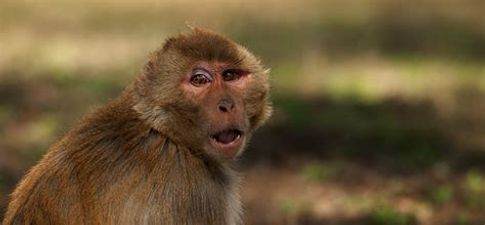monkey: (48, 15, 329, 225)
